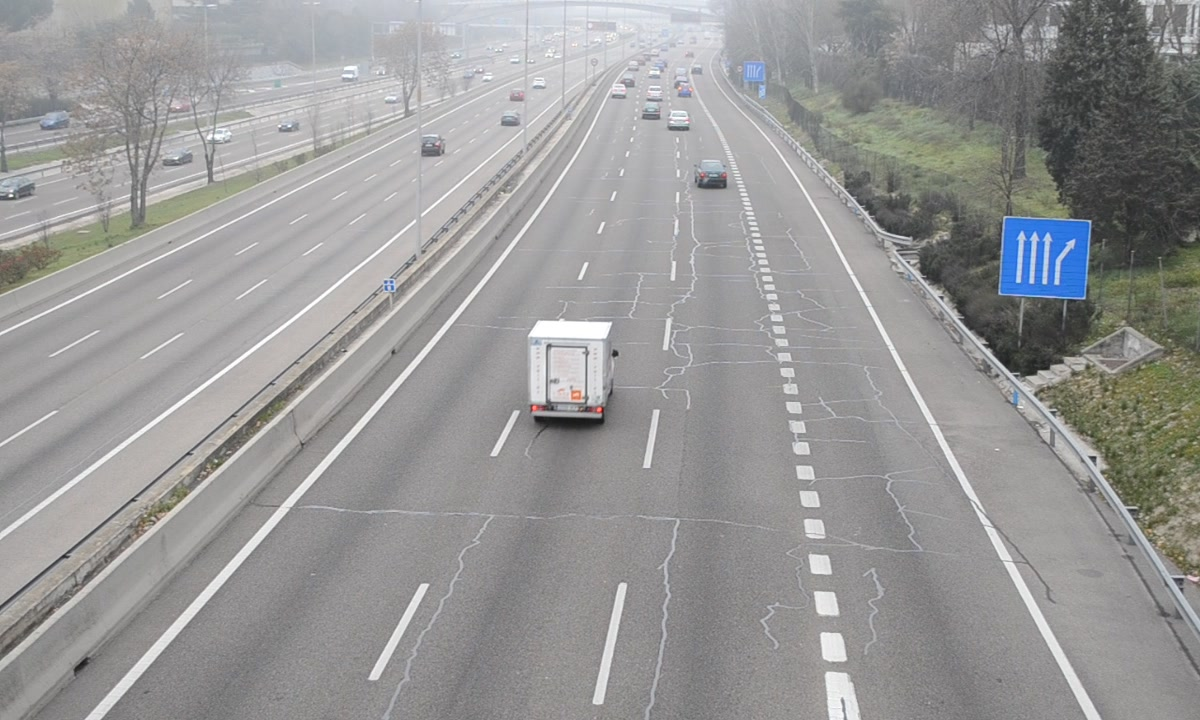car: (693, 158, 729, 190)
small-truck: (528, 320, 617, 420)
